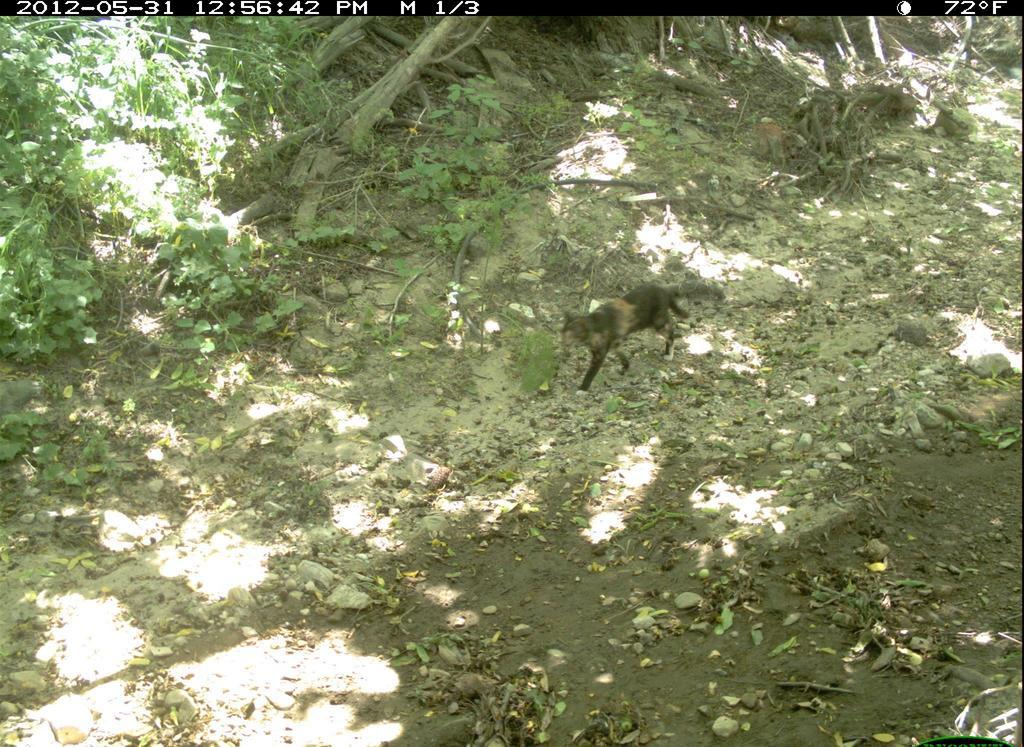cat: (541, 281, 689, 392)
